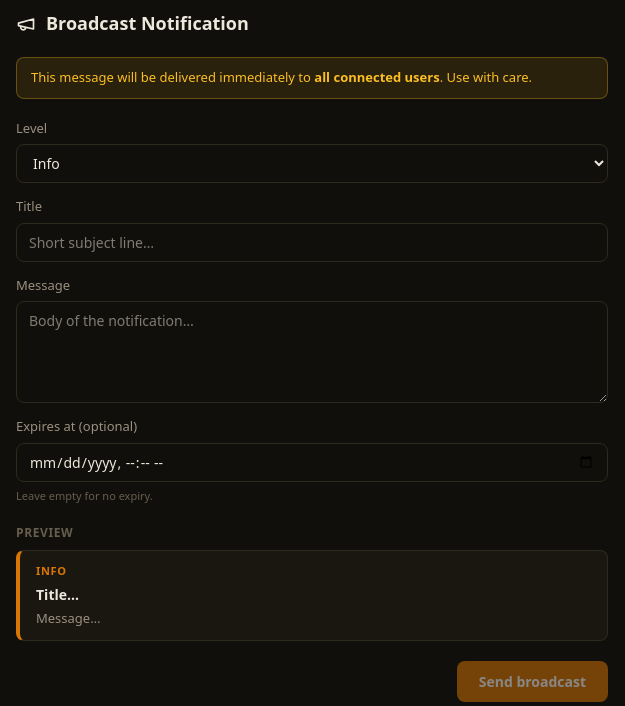
AdminBroadcastTab › blocks send and shows error when expiry is in the past
In the field labelled "Title": (312, 242) [16,222,608,262], type "T"
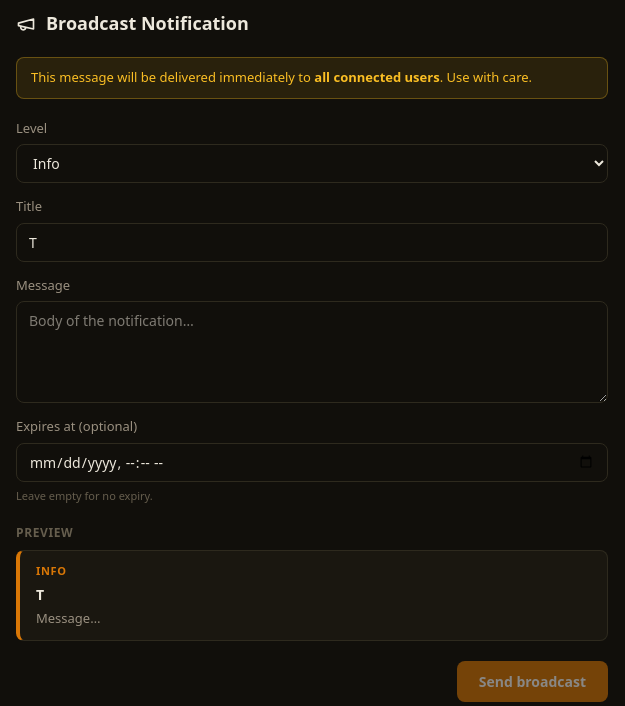
In the text box labelled "Message": (312, 352) [16,301,608,403], type "M"
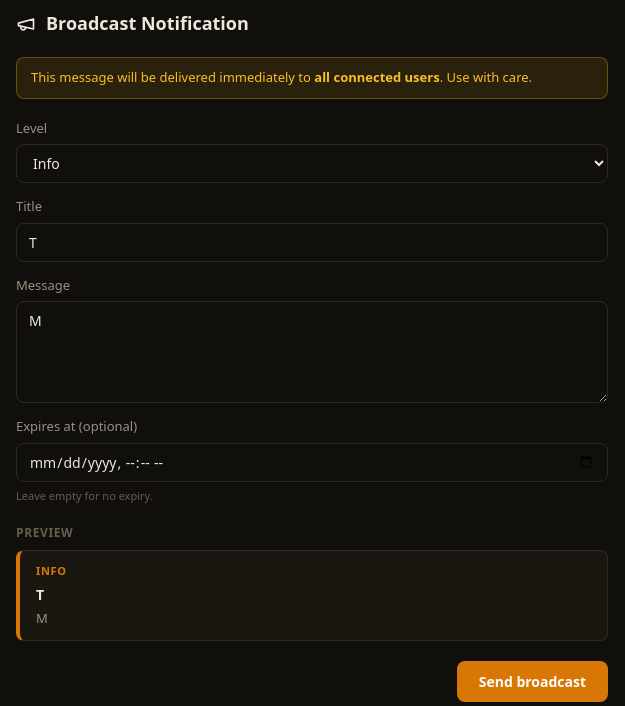
In the field labelled "Expires at (optional)": (312, 462) [16,442,608,482], type "2020-01-01T00:00"
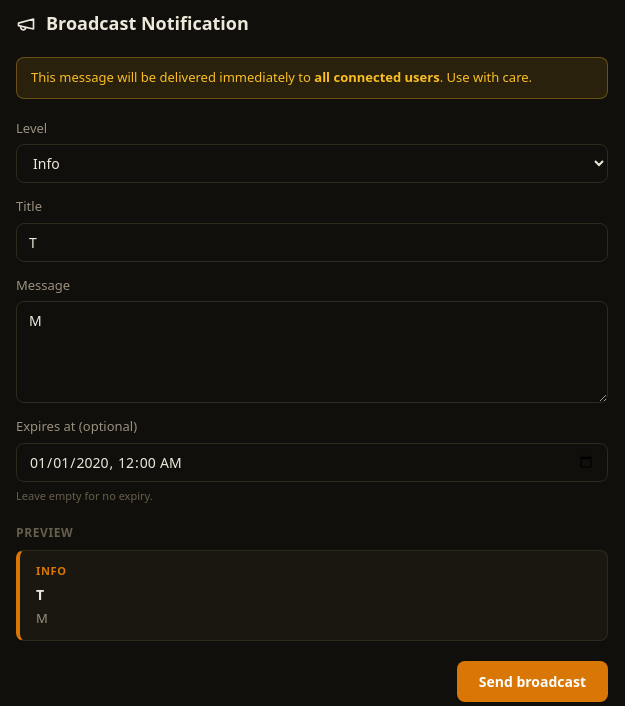
Click the button "Send broadcast": (532, 682) [457,661,608,702]
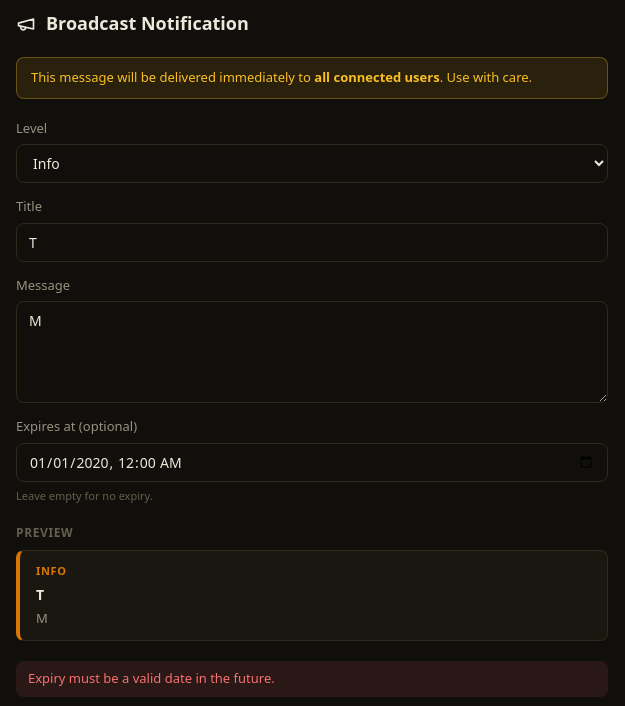
Expected: the message reads "Expiry must be a valid date in the future.", [28,669,275,687]
